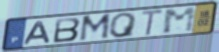A: (23, 20, 53, 46)
B: (52, 17, 82, 44)
M: (78, 12, 113, 43), (162, 6, 198, 35)
Q: (109, 11, 139, 39)
T: (140, 8, 165, 37)
